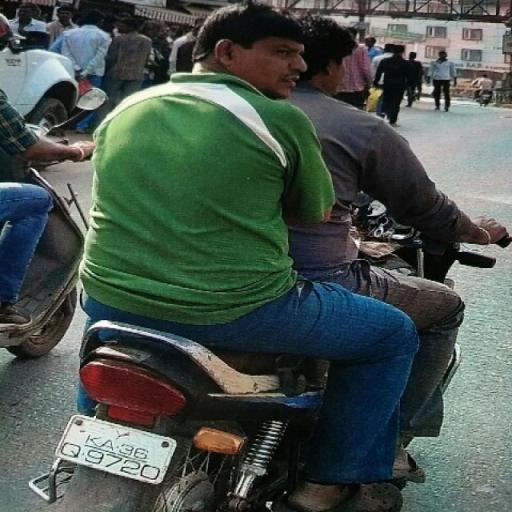bike: (40, 5, 502, 512)
numberplate: (54, 408, 176, 490)
withouthelmet: (196, 0, 306, 94), (296, 20, 348, 87)
